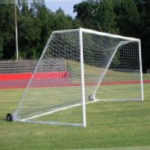goals: (15, 26, 145, 129)
